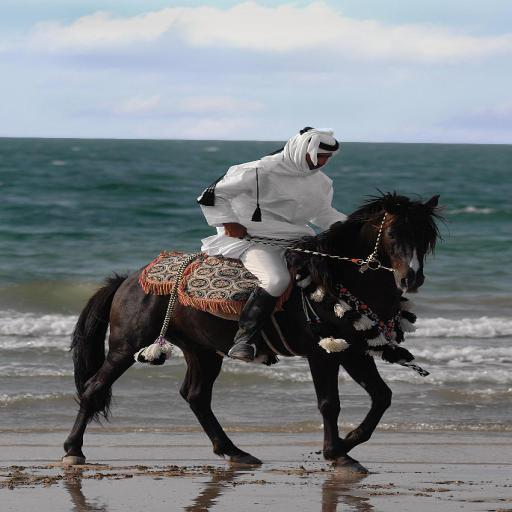Horse: (60, 184, 456, 468)
